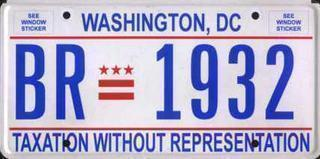placa de veiculo: (5, 5, 319, 157)
